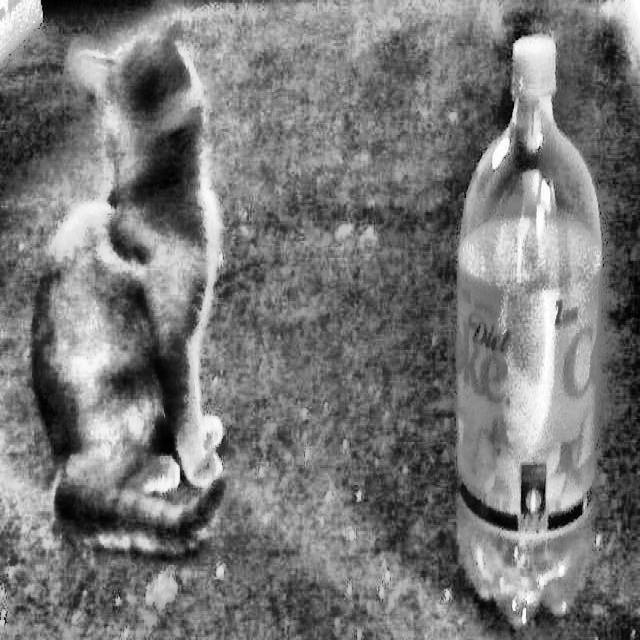waterbottle: (449, 28, 608, 633)
